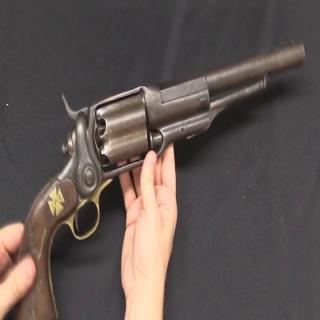gun: (0, 6, 317, 320)
